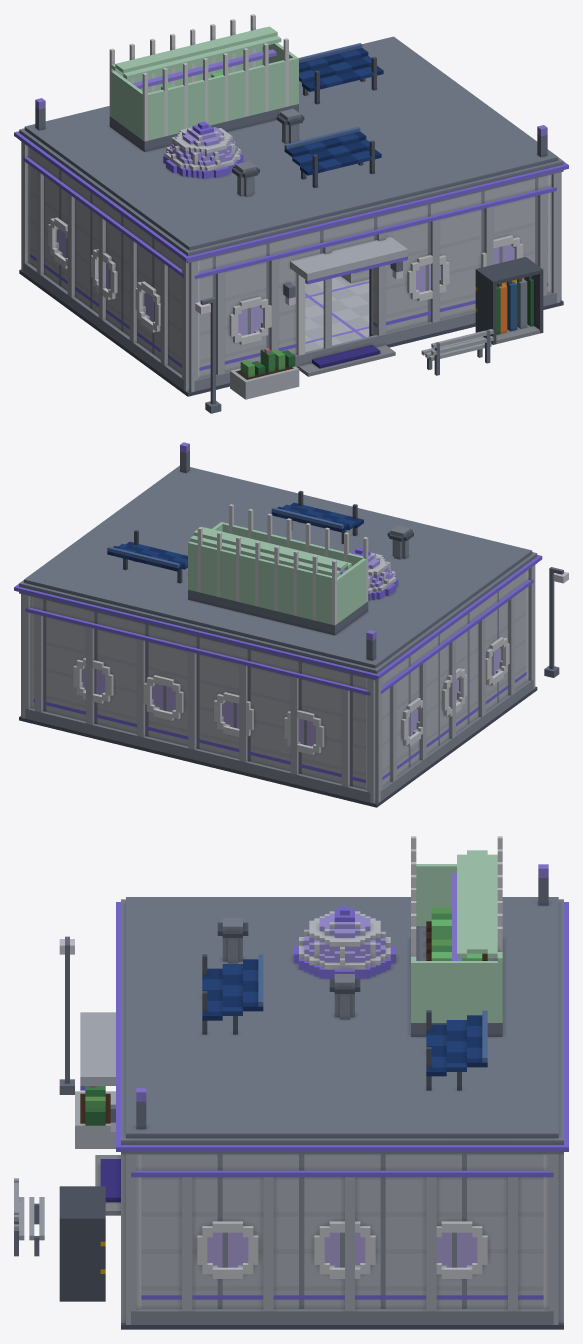
Rendered from lab_e5_l1.glb.
3 renders of one model, top to bottom at view 1: azimuth 30°, elevation 25°; view 2: azimuth 150°, elevation 25°; view 3: azimuth 270°, elevation 25°, orthographic. The views are drawn at different scales.
Parts seen in each view (by area): view 1: CutRoof, CutPZ, Base, CutNX, CutNZ; view 2: CutRoof, CutNZ, Base, CutNX, CutPZ; view 3: CutRoof, CutPX, Base, CutPZ, CutNZ.
Part boxes in pixels (x1,y1,x2,y2): CutRoof: (14,14,568,263); CutPZ: (182,172,561,360); Base: (19,240,563,413); CutNX: (23,148,183,353); CutNZ: (21,142,30,242); CutRoof: (14,442,542,680); CutNZ: (21,594,382,773); Base: (19,567,568,807); CutNX: (380,571,533,766); CutPZ: (526,565,535,660); CutRoof: (116,836,568,1154); CutPX: (131,1154,553,1283); Base: (14,936,563,1329); CutPZ: (80,1012,141,1283); CutNZ: (543,1154,563,1283).
Size of the model in its own units: 11.6 by 6.4 by 10.9.
